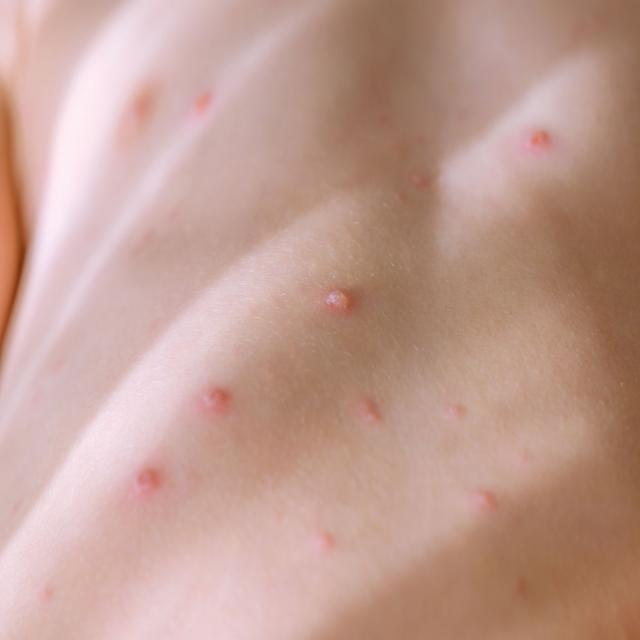hives: (131, 96, 589, 610)
